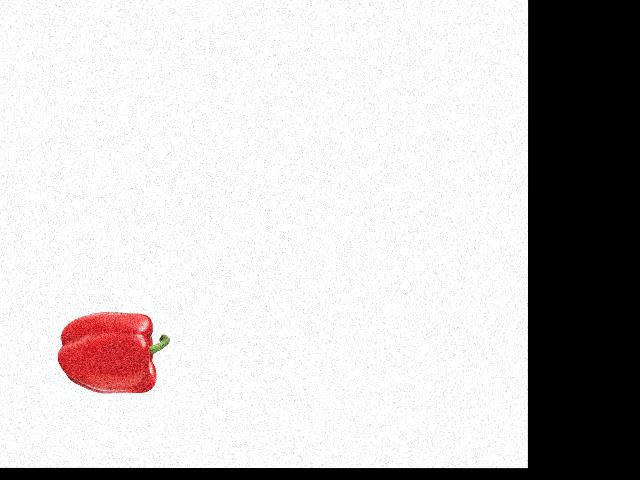bell_pepper: (54, 307, 169, 398)
